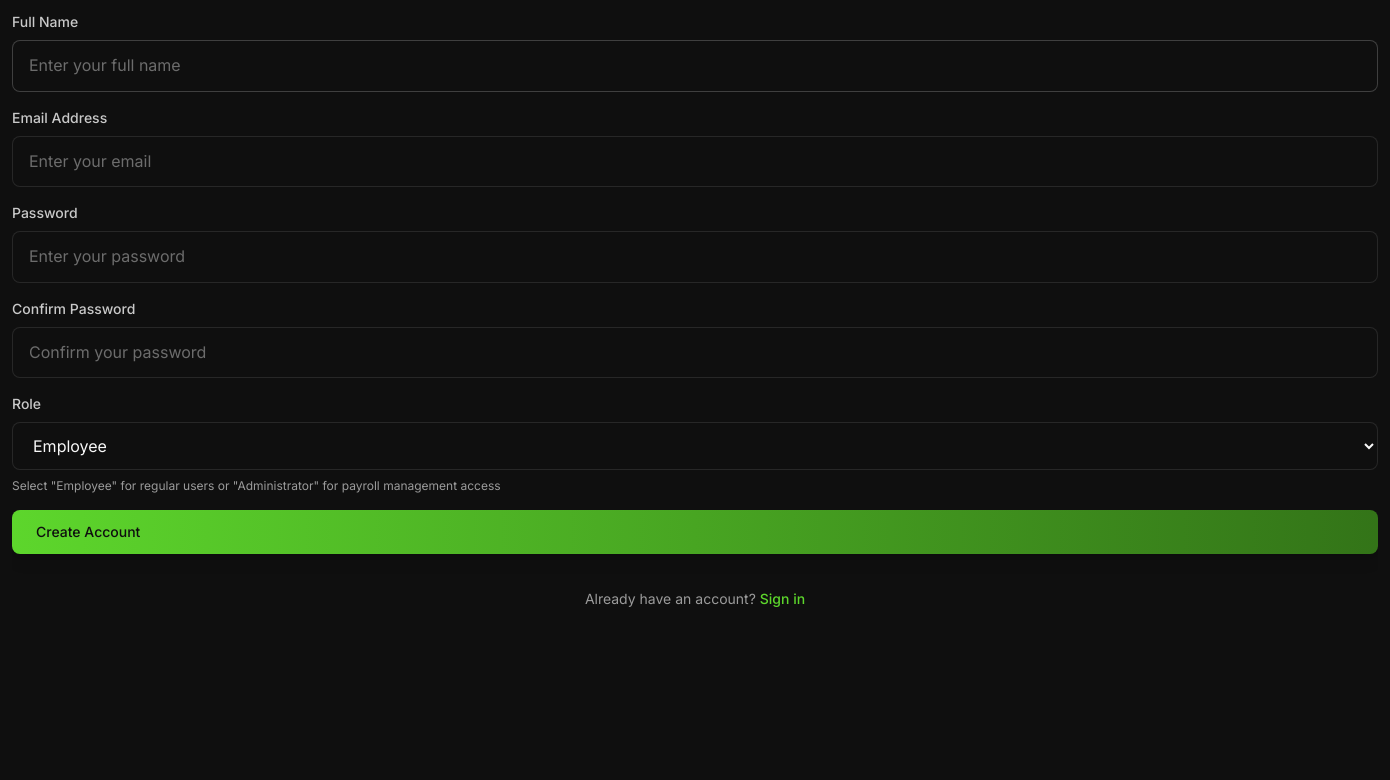
RegisterForm › validates required fields
Click the button "Create Account": [88, 532] box [12,510,1378,554]
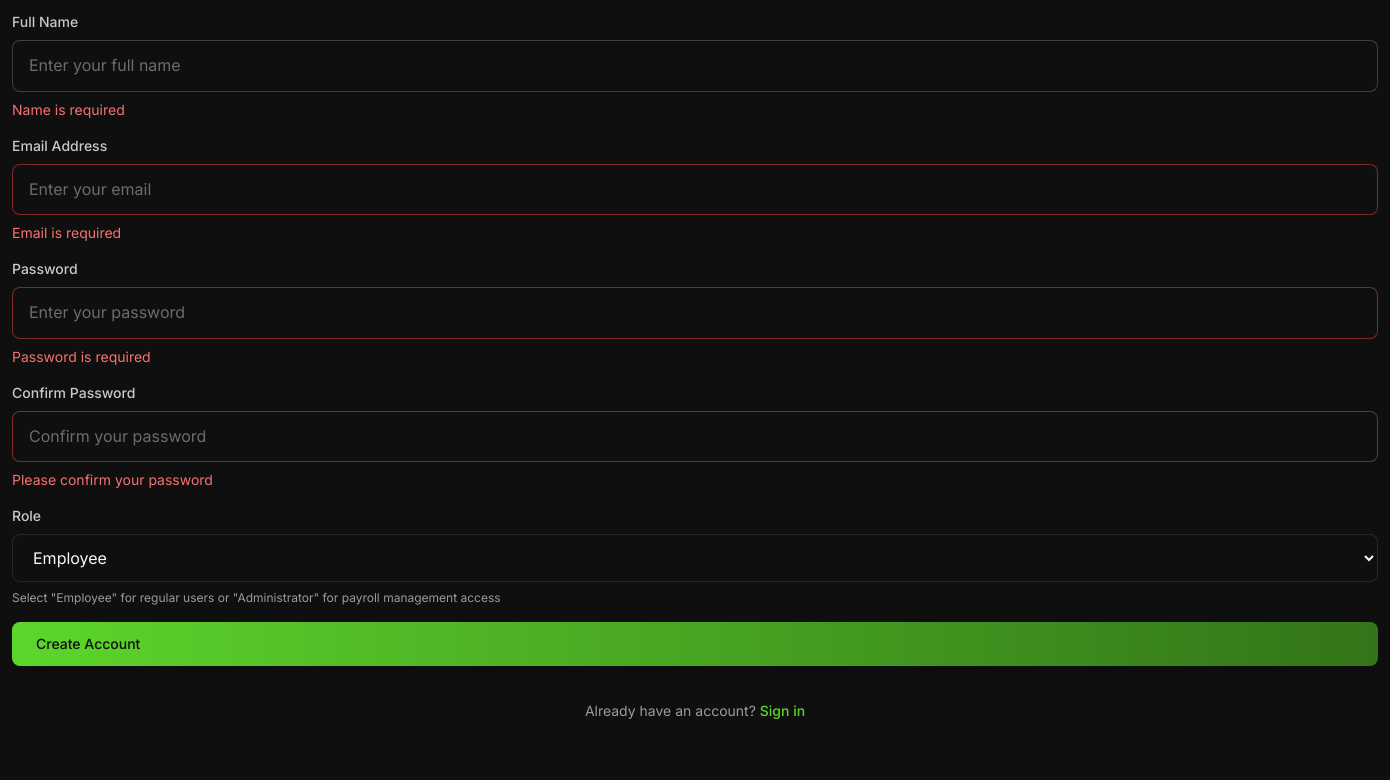
Now the text "Name is required" is shown, box [12,101,125,118]
Now the text "Email is required" is shown, box [12,224,121,241]
Now the text "Password is required" is shown, box [12,348,151,365]
